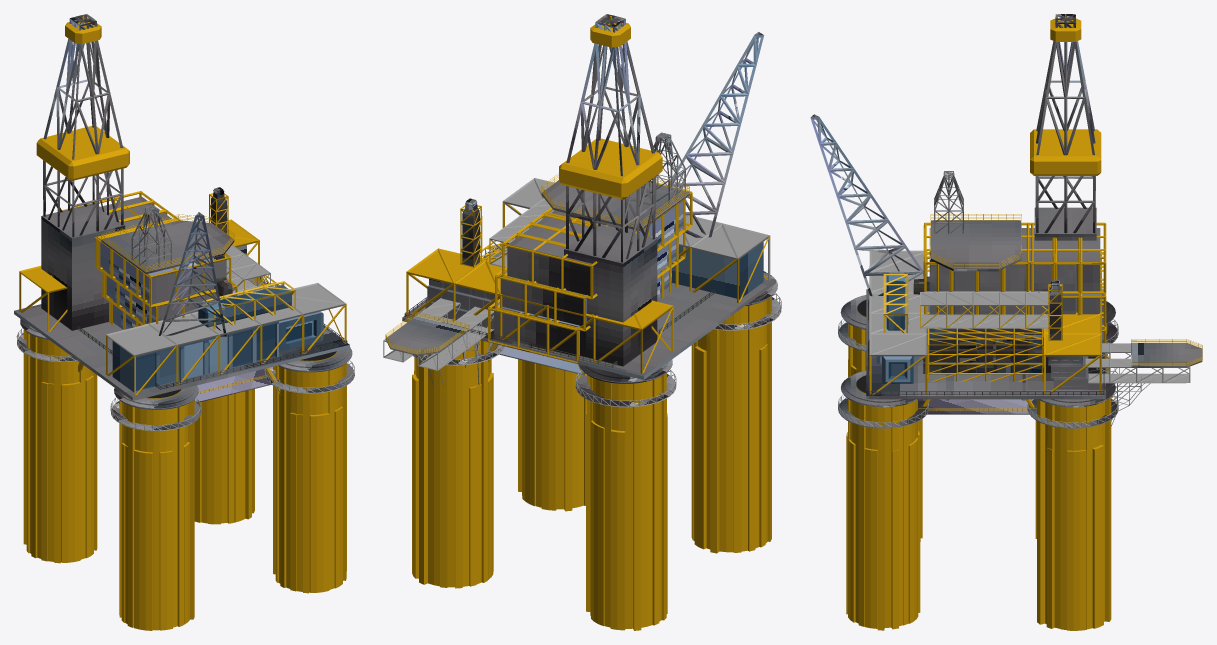
File: oil_rig_-_low_poly.glb
3 renders of one model, left to right at view 1: azimuth 30°, elevation 25°; view 2: azimuth 150°, elevation 25°; view 3: azimuth 270°, elevation 25°, orthographic. The views are drawn at different scales.
Parts seen in each view (by area): view 1: Cylinder.008_18, Cylinder.006_20, Cylinder.007_19, Cylinder.005_21, Cube.030_46, Cube.034_42, Cube.031_45, Plane.008_0, Plane.004_4, Cube.024_52, Cube.025_51, Cube.032_44 (+16 smaller); view 2: Cylinder.007_19, Cylinder.008_18, Cylinder.005_21, Cube.024_52, Cylinder.006_20, Cube.030_46, Cube.031_45, Plane.004_4, Plane.003_5, Cube.033_43, Cylinder.004_22, Cube.032_44 (+19 smaller); view 3: Cylinder.005_21, Cylinder.006_20, Cube.024_52, Plane.004_4, Cube.031_45, Plane.008_0, Cube.049_27, Cube.025_51, Plane.005_3, Cylinder.004_22, Cube.033_43, Cube.032_44 (+22 smaller).
Part boxes in pixels (box(x1,y1,x2,y2)): Cylinder.008_18: box(119, 389, 194, 630); Cylinder.006_20: box(273, 351, 346, 593); Cylinder.007_19: box(23, 329, 97, 563); Cylinder.005_21: box(194, 389, 254, 524); Cube.030_46: box(41, 203, 125, 330); Cube.034_42: box(112, 311, 323, 392); Cube.031_45: box(43, 14, 123, 237); Plane.008_0: box(106, 283, 346, 395); Plane.004_4: box(14, 278, 349, 400); Cube.024_52: box(100, 196, 232, 329); Cube.025_51: box(101, 220, 234, 274); Cube.032_44: box(36, 126, 129, 180); Cylinder.007_19: box(586, 373, 667, 630); Cylinder.008_18: box(691, 296, 771, 553); Cylinder.005_21: box(412, 340, 493, 588); Cube.024_52: box(494, 201, 683, 355); Cylinder.006_20: box(518, 359, 586, 511); Cube.030_46: box(564, 224, 657, 366); Cube.031_45: box(566, 14, 655, 262); Plane.004_4: box(402, 246, 775, 379); Plane.003_5: box(406, 248, 673, 373); Cube.033_43: box(488, 182, 692, 363); Cylinder.004_22: box(668, 32, 764, 237); Cube.032_44: box(559, 138, 662, 199); Cylinder.005_21: box(1037, 397, 1111, 630); Cylinder.006_20: box(846, 375, 920, 630); Cube.024_52: box(929, 228, 1100, 356); Plane.004_4: box(866, 289, 1105, 400); Cube.031_45: box(1035, 14, 1095, 233); Plane.008_0: box(869, 250, 927, 395); Cube.049_27: box(923, 328, 1043, 373); Cube.025_51: box(931, 220, 1021, 271); Plane.005_3: box(920, 292, 1049, 328); Cylinder.004_22: box(810, 114, 923, 296); Cube.033_43: box(923, 222, 1106, 358); Cube.032_44: box(1030, 129, 1101, 175).
Size of the model in its own units: 96.26 by 209 by 140.
7 materials, 3 textured.
